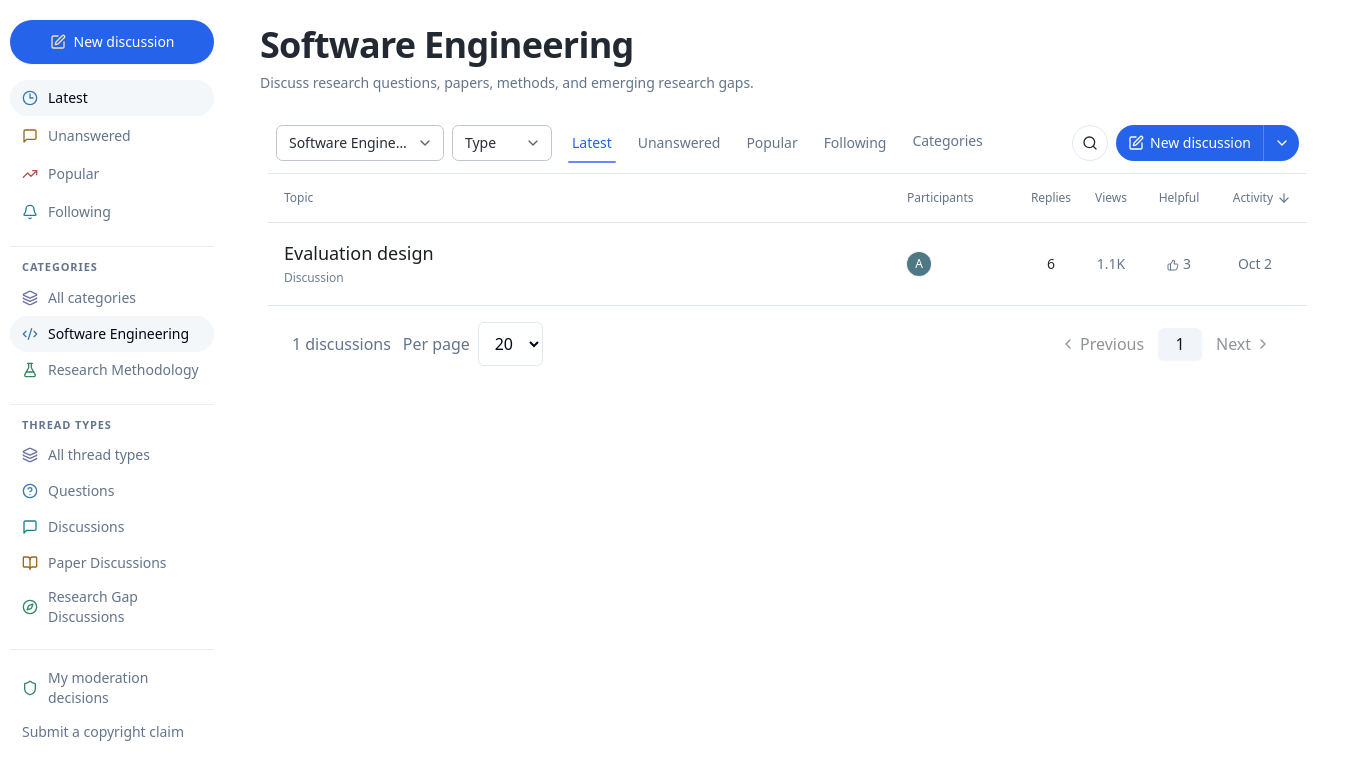
Forum loading and reading interactions › retains category scope across feed links and lets a category-route dropdown change scope
Select "Research Methodology" in the dropdown named "Category": (360, 143) [276,125,444,161]
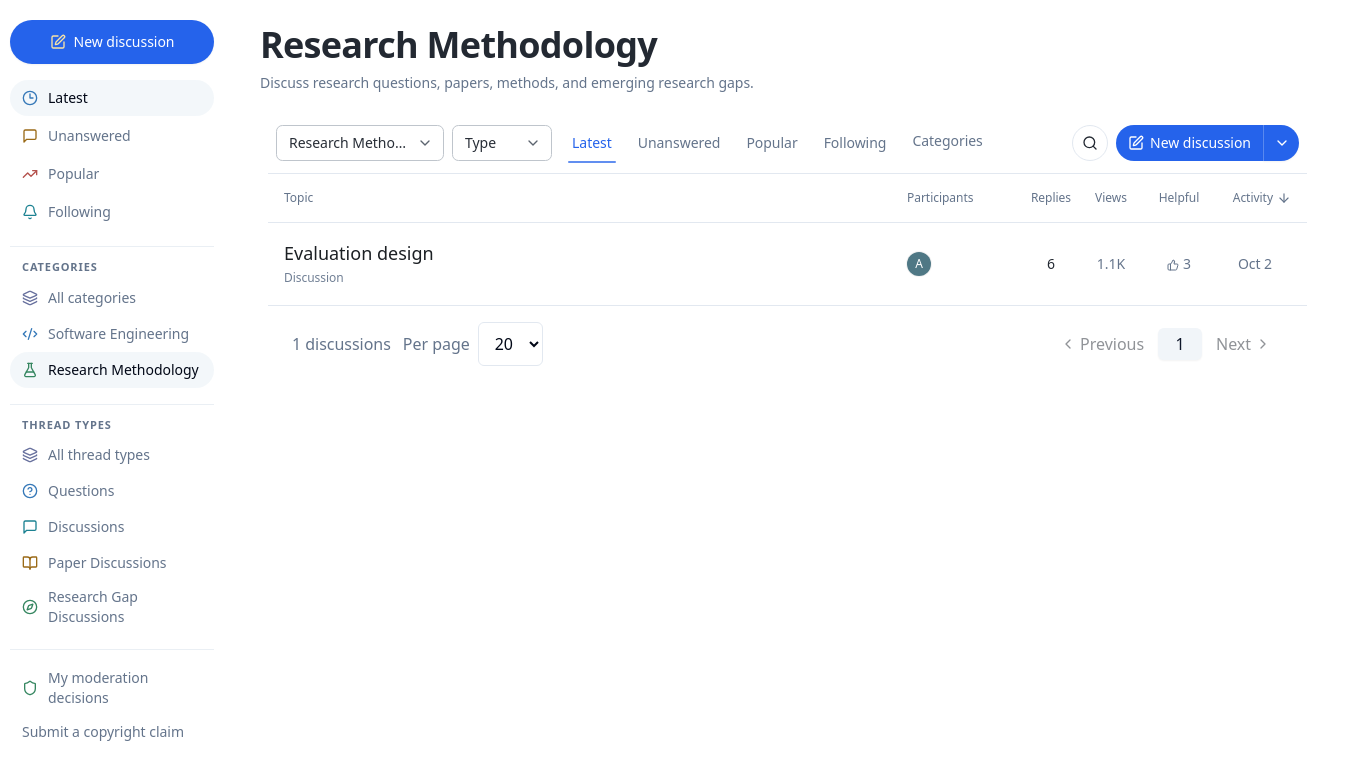
Expected: the heading "Research Methodology" is shown, [260,20,657,69]
Select "All categories" in the dropdown named "Category": (360, 143) [276,125,444,161]
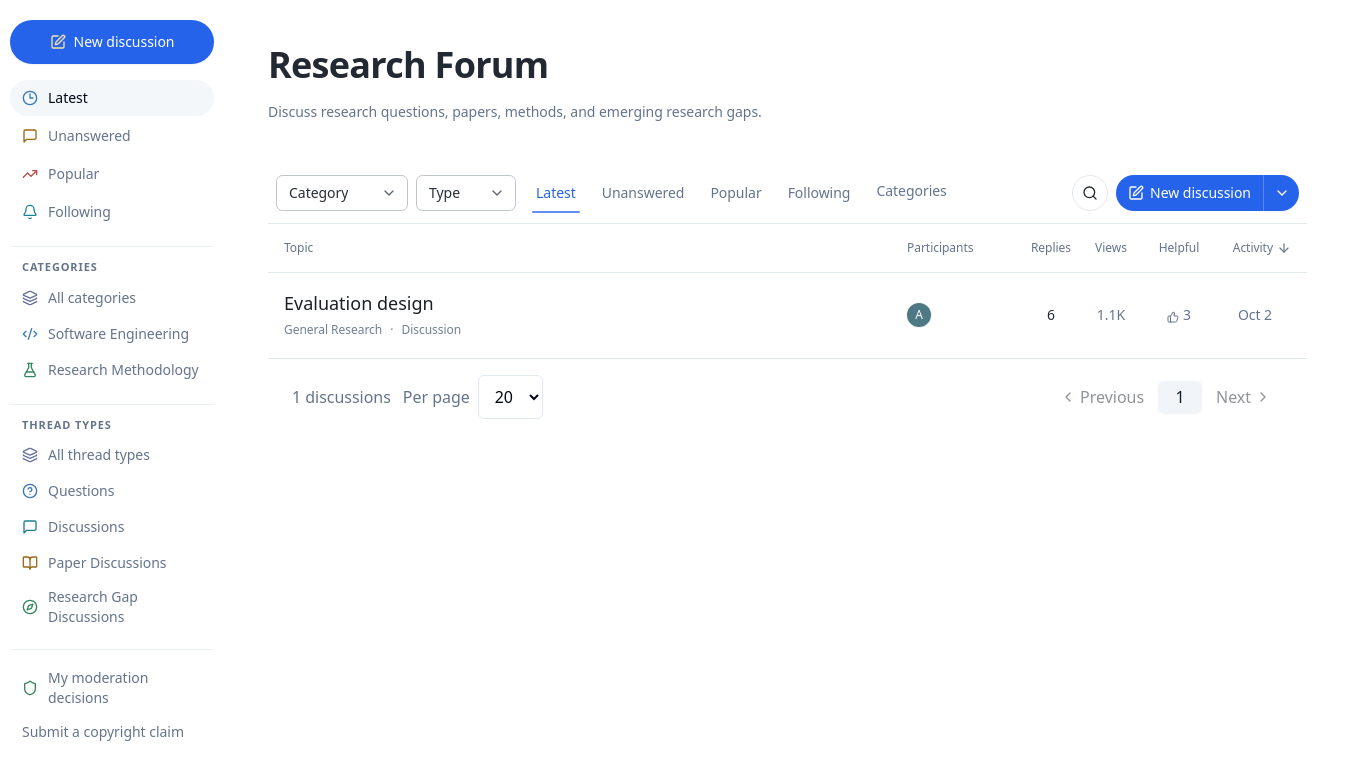
Expected: the heading "Research Forum" is shown, [268,40,548,89]
